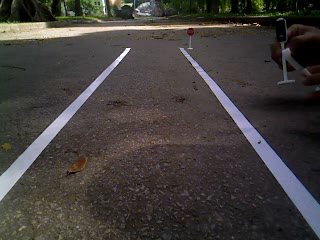Blue: (272, 15, 289, 44)
Stop: (184, 24, 197, 40)
